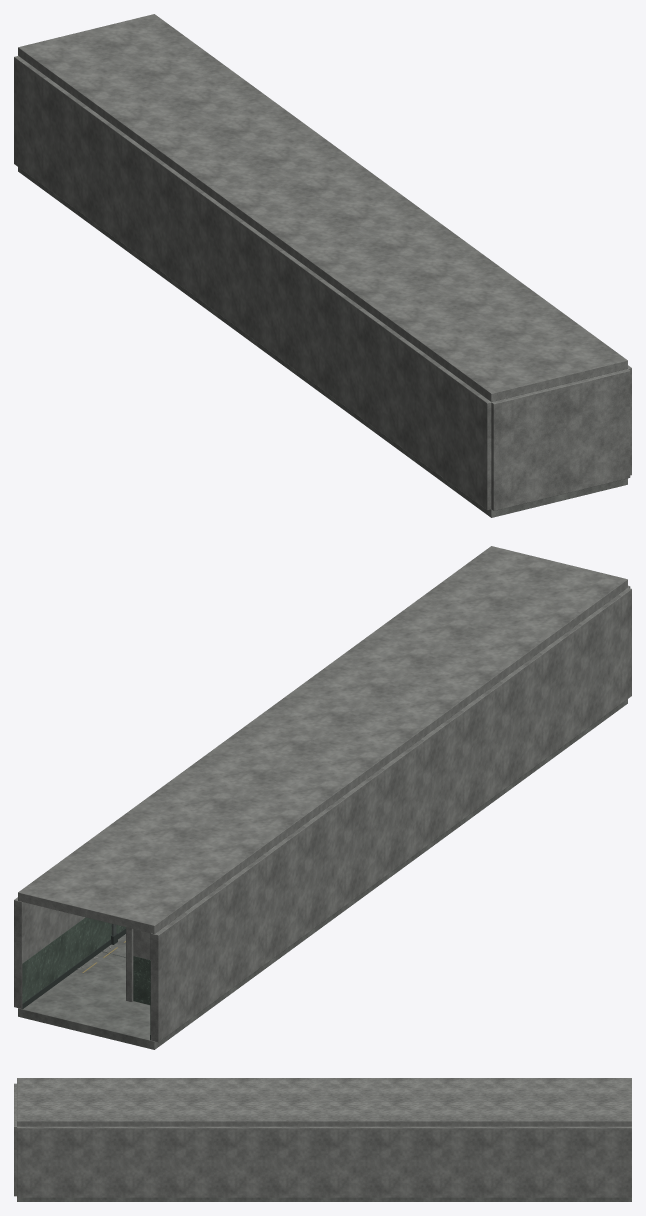
Rendered from Warehouse.fbx.
3 views of the same model, one above another, from view 1: azimuth 30°, elevation 25°; view 2: azimuth 150°, elevation 25°; view 3: azimuth 270°, elevation 25° (orthographic). The views are drawn at different scales.
Parts seen in each view (by area): view 1: Ceiling, RightWall, FarWall, Floor; view 2: Ceiling, RightWall, Floor, LeftWall, NearCover; view 3: LeftWall, Ceiling, Floor, FarWall.
Boxes of the visible parts, <box> form: Ceiling: <box>18,14,627,401</box>; RightWall: <box>14,56,491,510</box>; FarWall: <box>491,369,630,510</box>; Floor: <box>18,167,627,517</box>; Ceiling: <box>18,546,627,933</box>; RightWall: <box>150,588,631,1042</box>; Floor: <box>18,699,627,1049</box>; LeftWall: <box>14,897,125,1008</box>; NearCover: <box>133,929,150,1004</box>; LeftWall: <box>17,1126,631,1197</box>; Ceiling: <box>17,1078,631,1126</box>; Floor: <box>17,1197,631,1201</box>; FarWall: <box>14,1083,16,1196</box>.
Bounding box in the file's own units: 424 × 348 × 2412.
